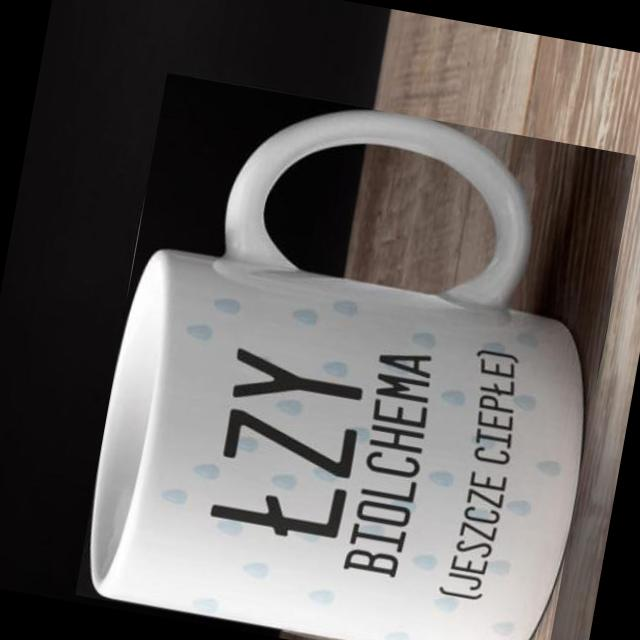Coffee Mug: (73, 71, 633, 640)
